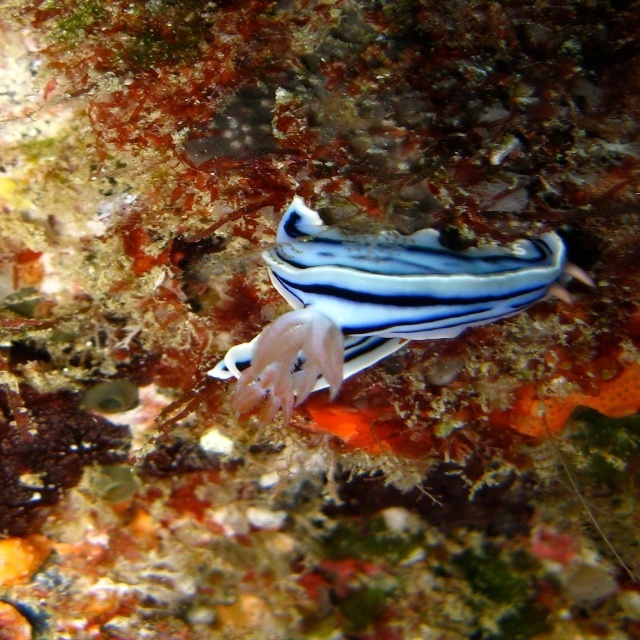Fish: (207, 195, 595, 429)
